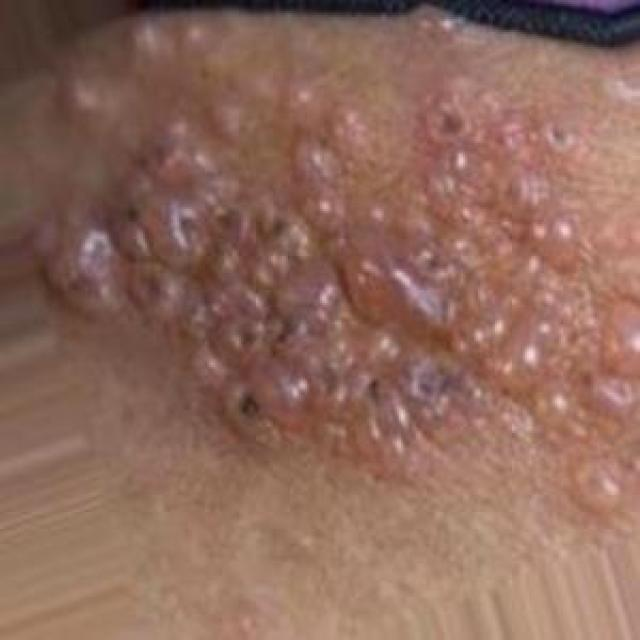Shingles: (50, 12, 640, 521)
